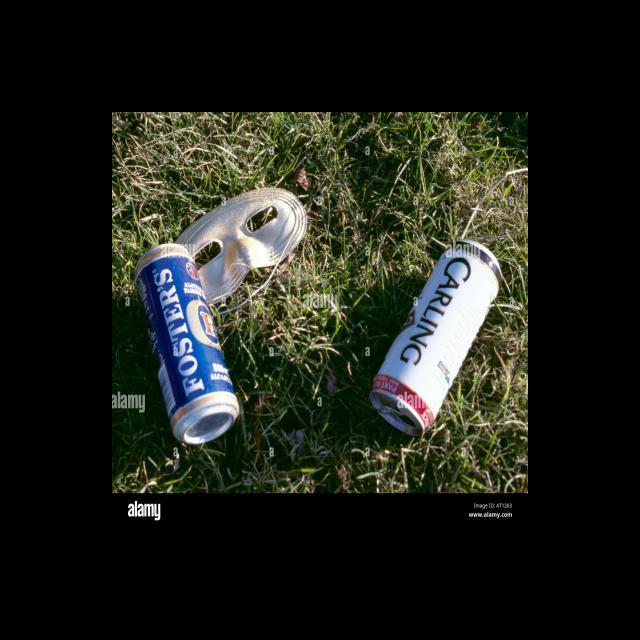metal: (360, 232, 507, 441), (128, 243, 237, 451)
